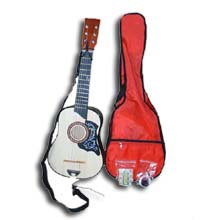guitar: (47, 16, 105, 178)
